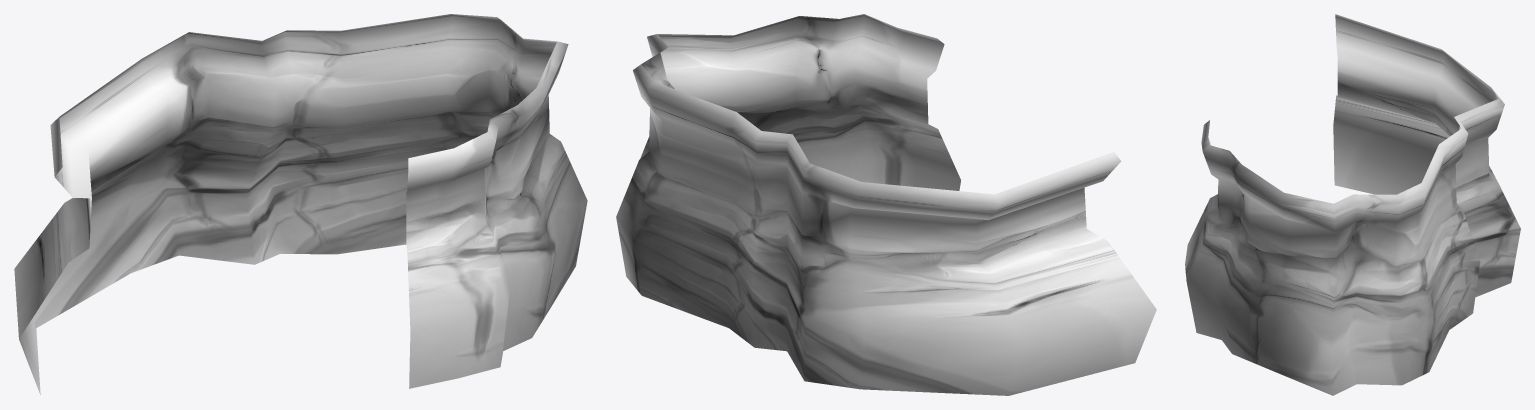
File: FALAISE_BORD_LOW_03.fbx
3 views of the same model, side by side, from view 1: azimuth 30°, elevation 25°; view 2: azimuth 150°, elevation 25°; view 3: azimuth 270°, elevation 25° (orthographic). The views are drawn at different scales.
Parts seen in each view (by area): view 1: FALAISE_BORD_LOW_03; view 2: FALAISE_BORD_LOW_03; view 3: FALAISE_BORD_LOW_03.
Part boxes in pixels (x1=…): FALAISE_BORD_LOW_03: x1=14, y1=14, x2=587, y2=394; FALAISE_BORD_LOW_03: x1=616, y1=14, x2=1156, y2=395; FALAISE_BORD_LOW_03: x1=1185, y1=14, x2=1520, y2=395.
Size of the model in its own units: 11434 by 4436 by 7255.
1 material, 1 textured.
